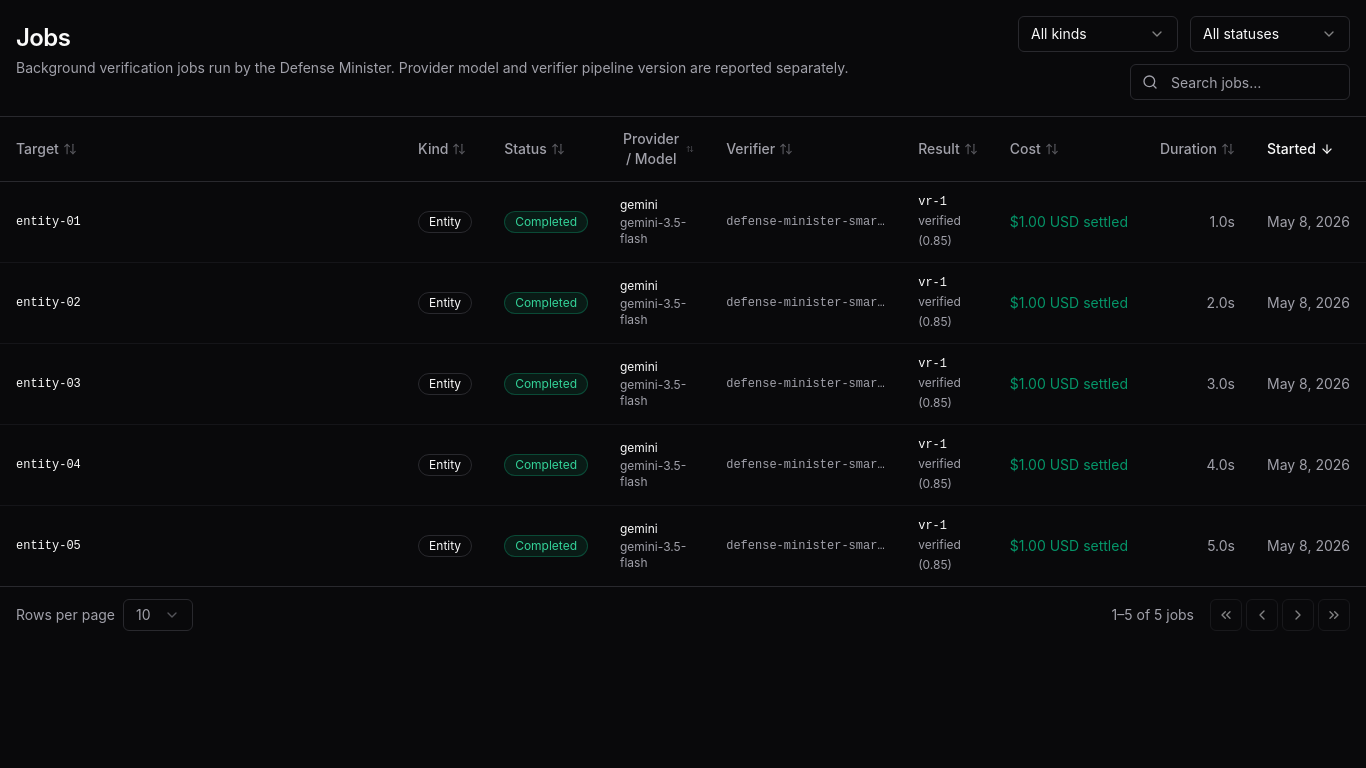
Test: JobsTable — filters › states the visible count against the total actually held
The width and height of the screenshot is (1366, 768).
Type "entity-01" into the search field with test id "jobs-search-input" at (1240, 82), box [1130, 64, 1350, 100]
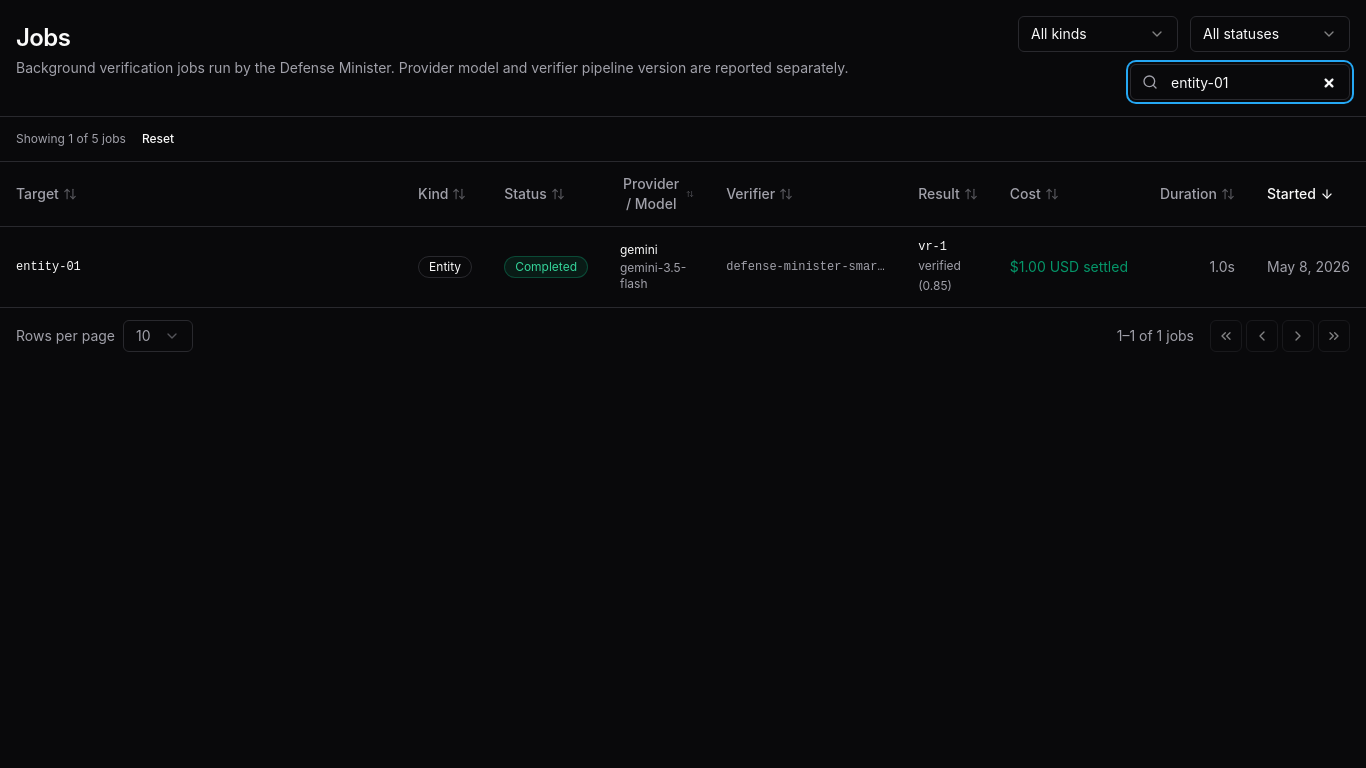
Result: the text with test id "jobs-filter-summary" reads "Showing 1 of 5 jobs" at [16, 131, 126, 147]
